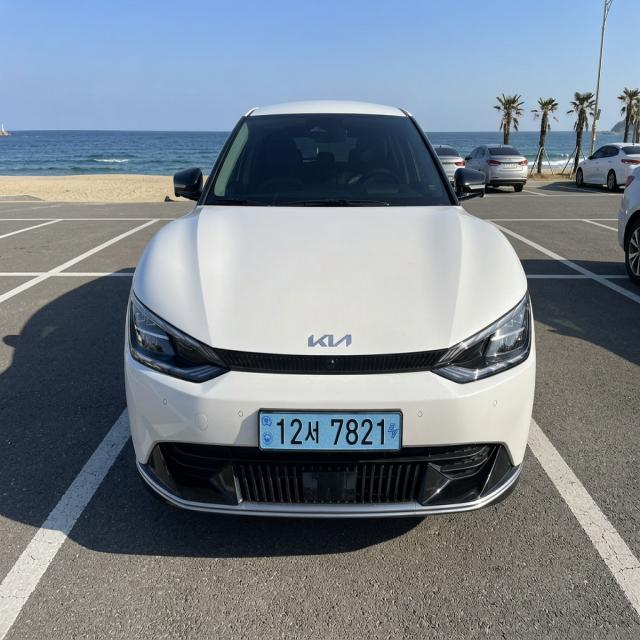car: (251, 400, 415, 465)
carev: (259, 408, 275, 449), (386, 413, 401, 447)
